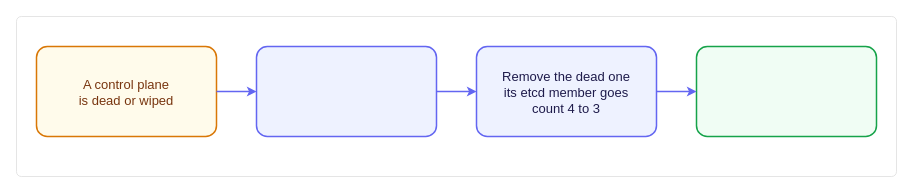
This 913x193 diagram has some shape labels left out. Each missing label, with the centre of its shape:
"Approve a spare count 3 to 4 (even: Transitioning)" belongs at (346,91).
"Count is odd again parked operations resume by themselves" belongs at (786,91).
